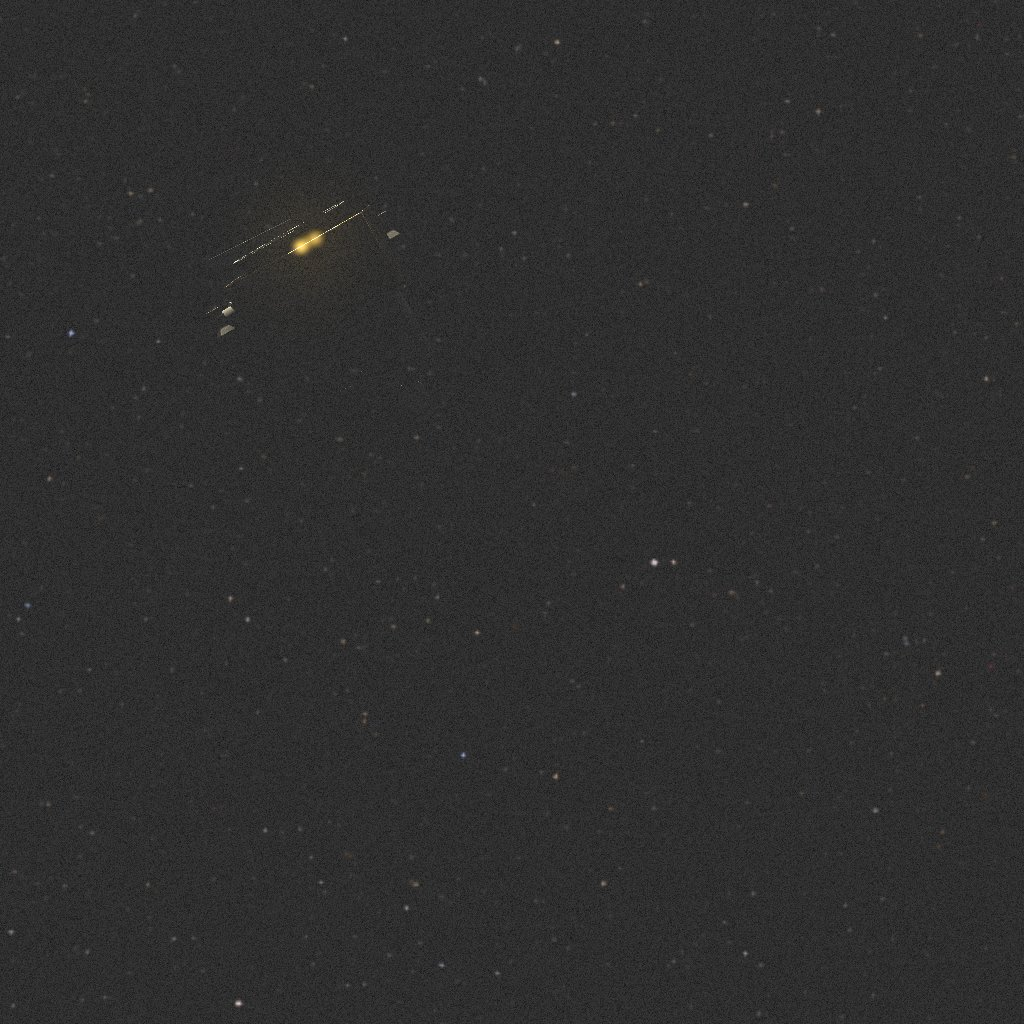earth_observation_sat_1: (205, 196, 432, 417)
